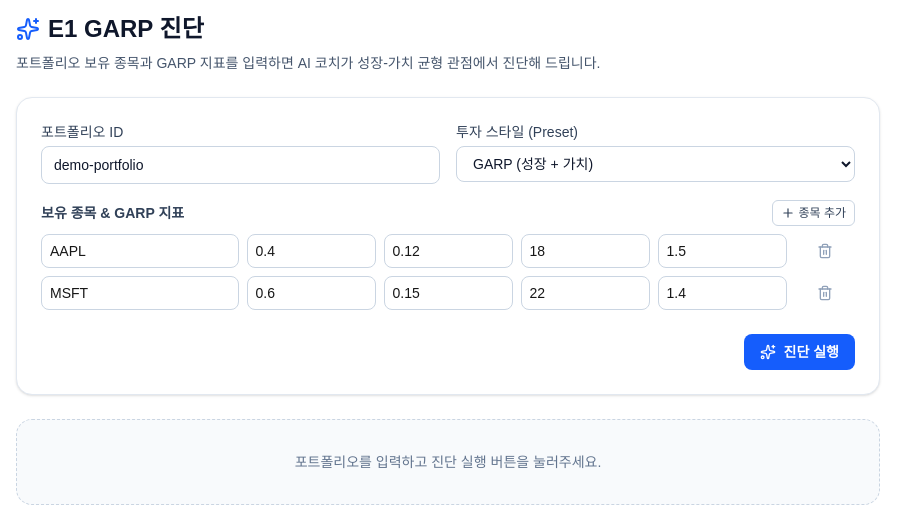
Scenario: E1 coach page — a11y + 폼 검증 보강 › 폼 검증: 모든 종목 행을 비우면 제출 버튼 disabled
The image size is (897, 522).
Clear the field named "ticker" at (140, 251), box 41,234 -> 238,268
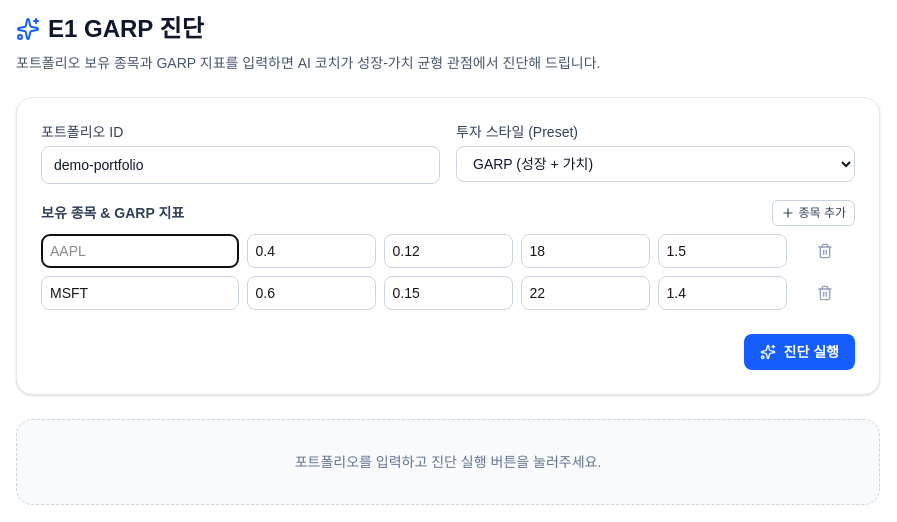
Clear the field named "ticker" at (140, 293), box 41,276 -> 238,310
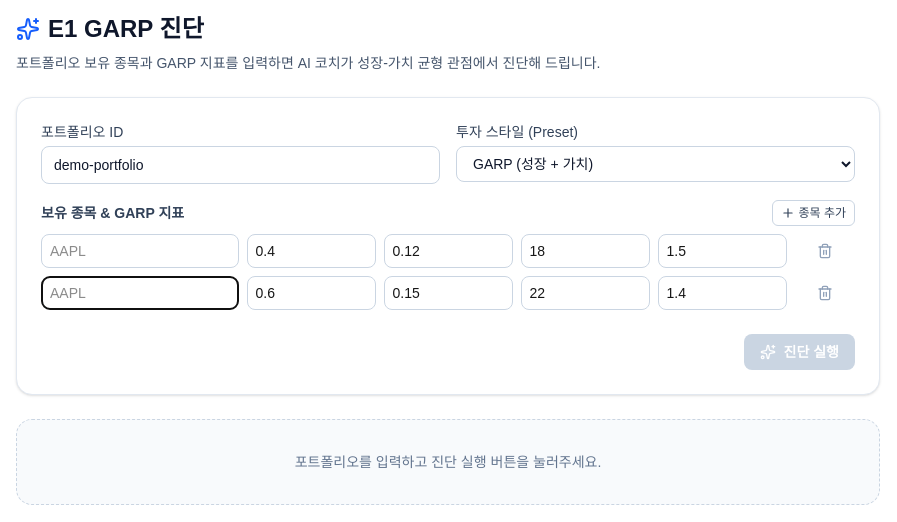
Check: the button "진단 실행" is disabled, box 744,334 -> 855,370
